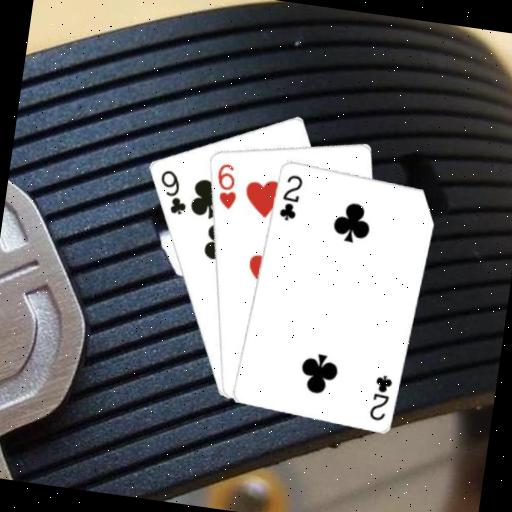2C: (275, 170, 305, 223), (365, 370, 394, 423)
6H: (209, 159, 242, 212)
9C: (153, 166, 193, 218)
